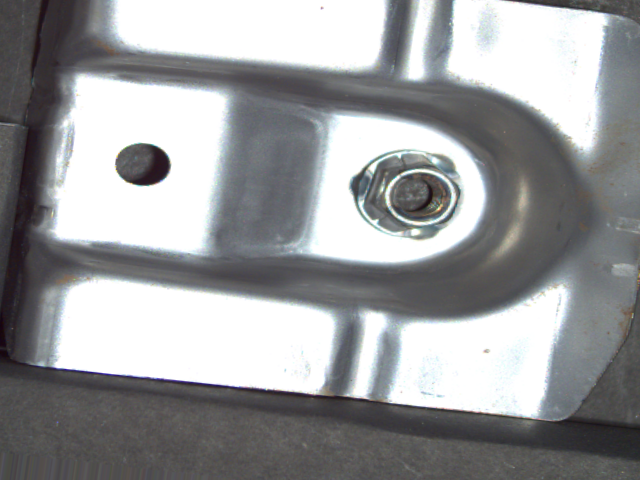good: (349, 147, 469, 244)
